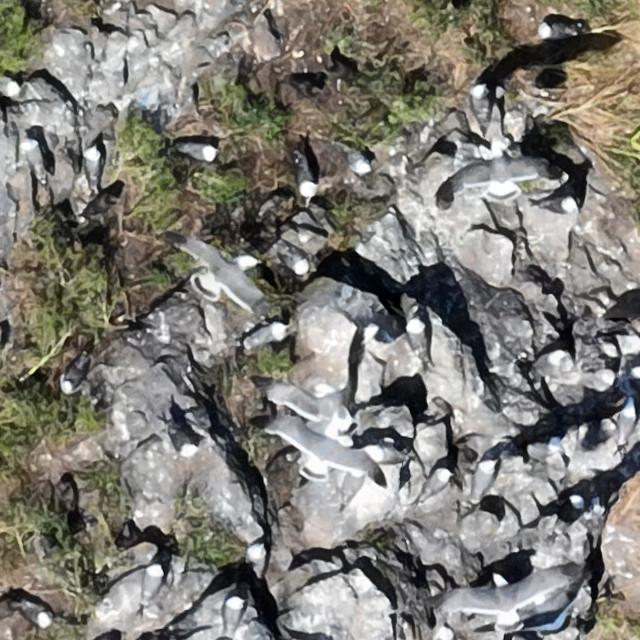F: (445, 565, 568, 627), (272, 418, 382, 480), (170, 230, 260, 303), (292, 349, 366, 429), (452, 141, 546, 198)
umineko: (468, 458, 496, 506), (527, 349, 565, 381), (167, 418, 196, 458), (19, 138, 45, 182), (296, 157, 316, 194), (248, 325, 285, 345), (63, 358, 85, 391), (20, 603, 50, 627), (180, 141, 216, 160), (538, 196, 576, 214), (85, 145, 103, 181), (407, 320, 425, 354), (142, 566, 160, 599), (541, 22, 573, 40), (619, 408, 637, 439), (346, 150, 369, 174), (224, 598, 242, 628), (471, 84, 487, 116), (429, 468, 450, 492), (249, 544, 266, 572), (288, 252, 307, 272), (568, 494, 584, 516), (2, 78, 18, 98)
